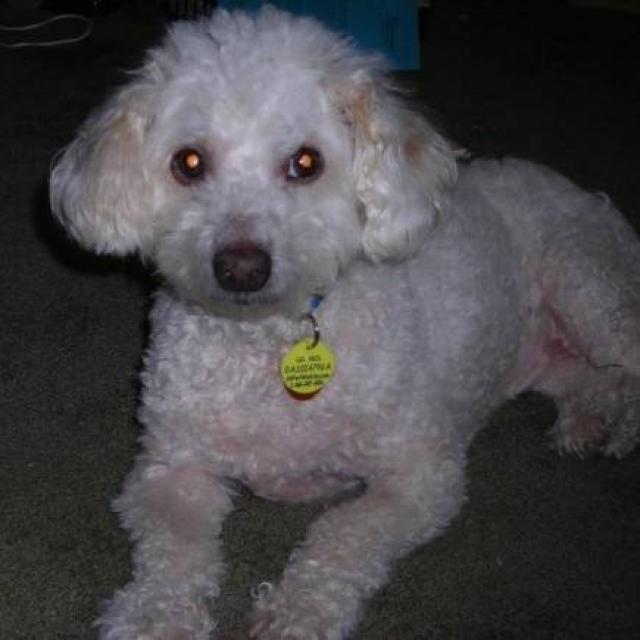dog: (46, 1, 638, 638)
